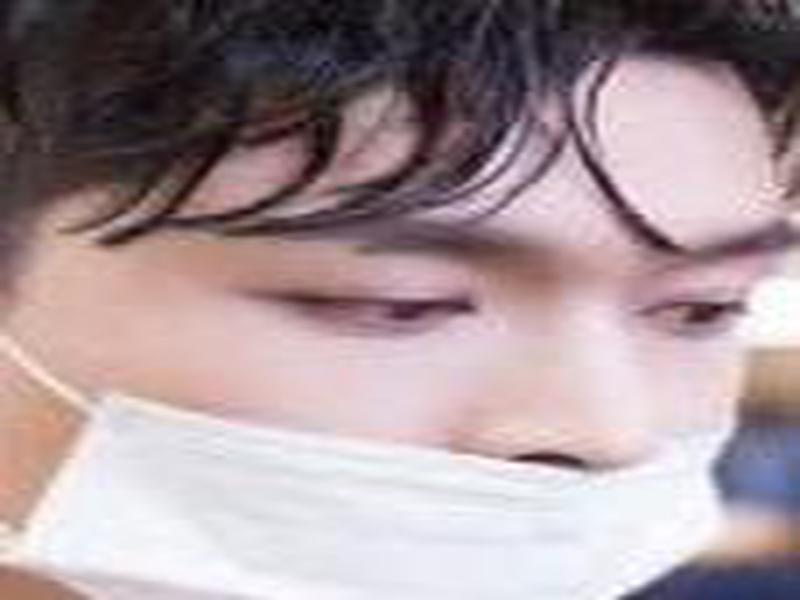with_mask: (1, 54, 772, 600)
